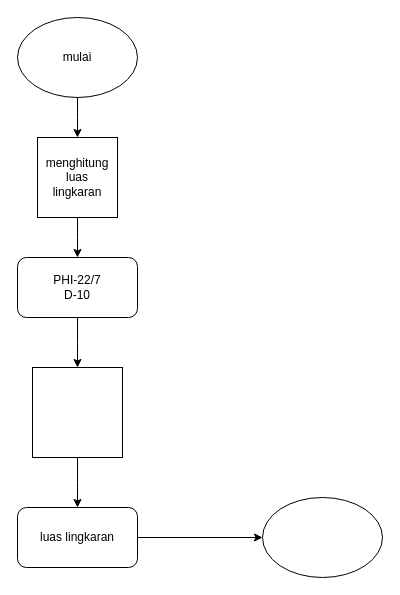
This 400x595 diagram has some shape labels left out. Here are the shapes that lost their labels. From the top down, the centre of each, then its label:
[77,412]: Luas O- PHI(22/7) Dikali Diameter
[322,537]: finish
